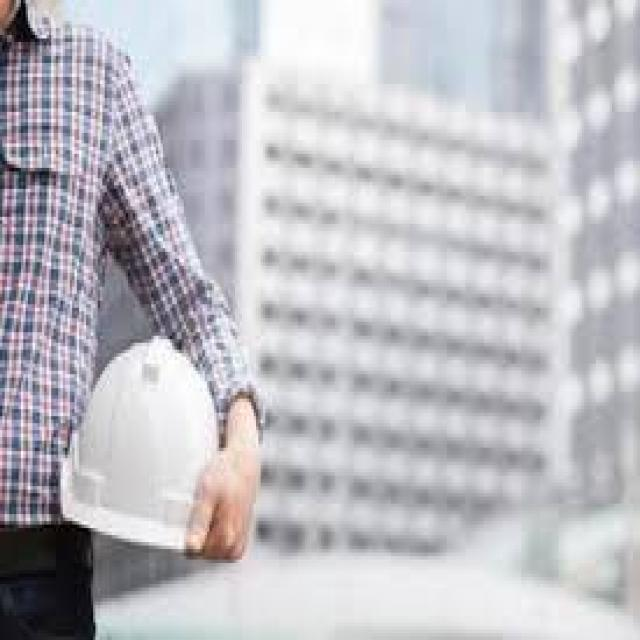Safety-Helmet: (45, 318, 252, 574)
